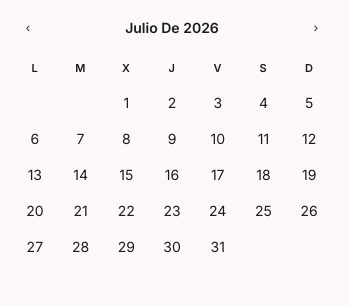
Test case: CalendarPicker › navigates to next month when clicking the right button
Expected: the text "julio de 2026" is shown, [125, 18, 219, 38]
Click the button named "Mes siguiente" at coordinates (316, 28), box [300, 12, 332, 44]
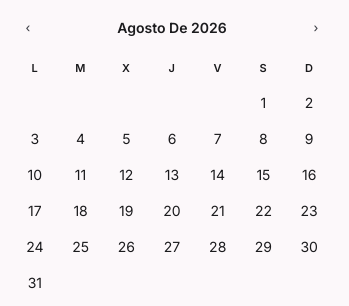
Now the text "agosto de 2026" is shown, box [117, 18, 227, 38]
